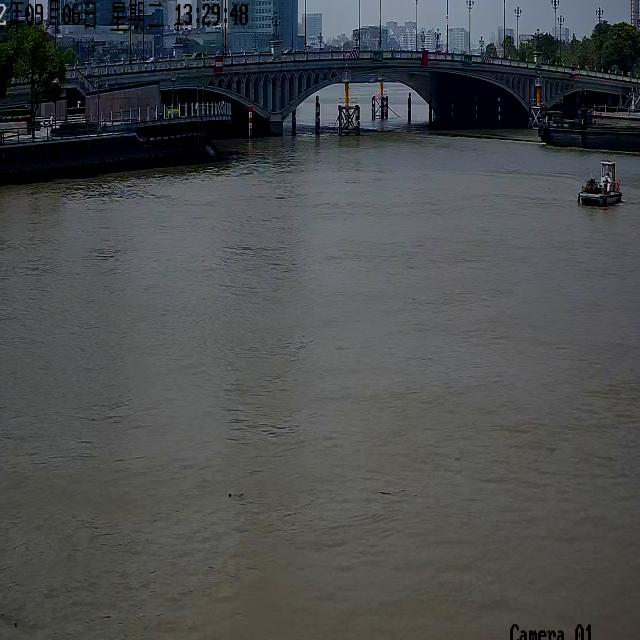ship: (538, 106, 640, 158), (578, 152, 622, 206)
